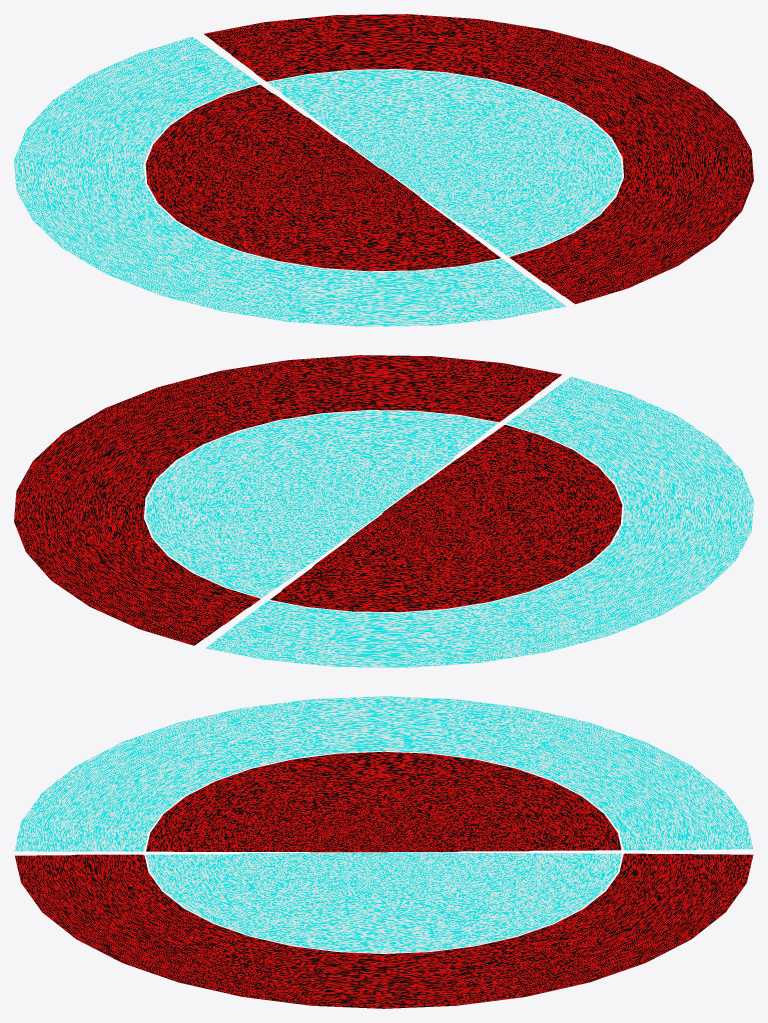
The model's file is SM_SpherePlane_02_HJS.fbx.
3 views of the same model, one above another, from view 1: azimuth 30°, elevation 25°; view 2: azimuth 150°, elevation 25°; view 3: azimuth 270°, elevation 25° (orthographic).
Parts seen in each view (by area): view 1: SM_SpherePlane_02_HJS; view 2: SM_SpherePlane_02_HJS; view 3: SM_SpherePlane_02_HJS.
Part boxes in pixels (x1,y1,x2,y2): SM_SpherePlane_02_HJS: (14, 14, 753, 326); SM_SpherePlane_02_HJS: (14, 355, 753, 667); SM_SpherePlane_02_HJS: (14, 696, 753, 1008).
Size of the model in its own units: 152 by 0.000291 by 152.
